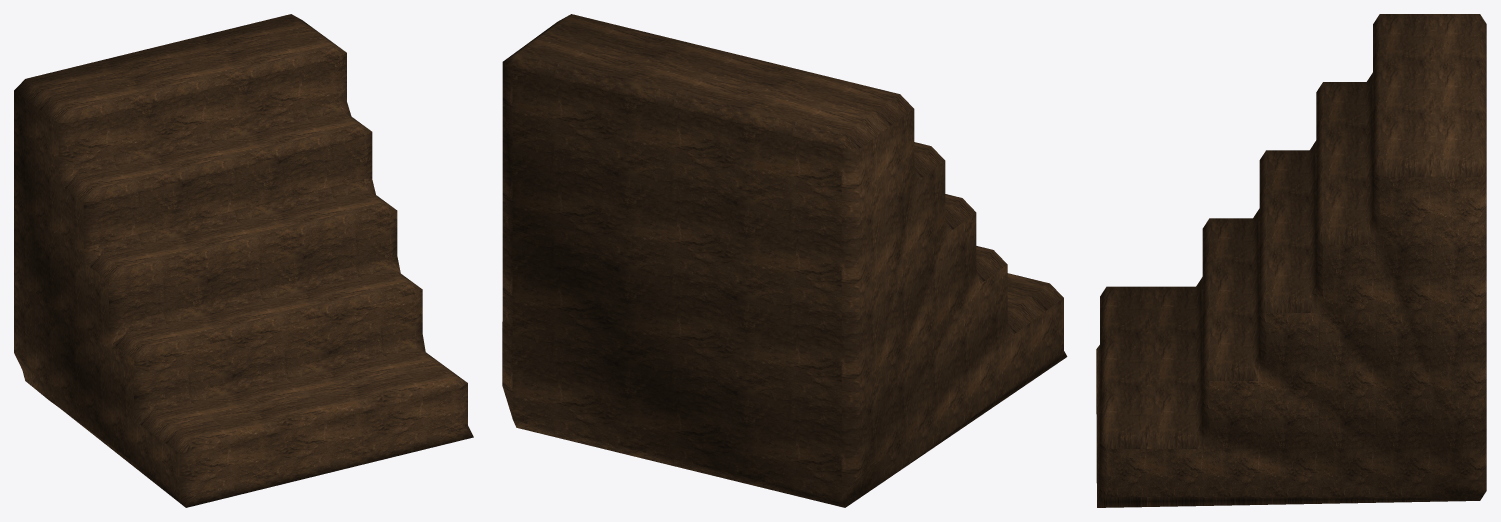
File: ext_steps.obj
3 views of the same model, side by side, from view 1: azimuth 30°, elevation 25°; view 2: azimuth 150°, elevation 25°; view 3: azimuth 270°, elevation 25° (orthographic). The views are drawn at different scales.
Visible parts, largest first — view 1: Cube; view 2: Cube; view 3: Cube.
Boxes of the visible parts, left/top/right/bottom form: Cube: left=14, top=14, right=473, bottom=507; Cube: left=502, top=14, right=1067, bottom=507; Cube: left=1096, top=14, right=1486, bottom=507.
Size of the model in its own units: 2.02 by 2.02 by 2.09.
